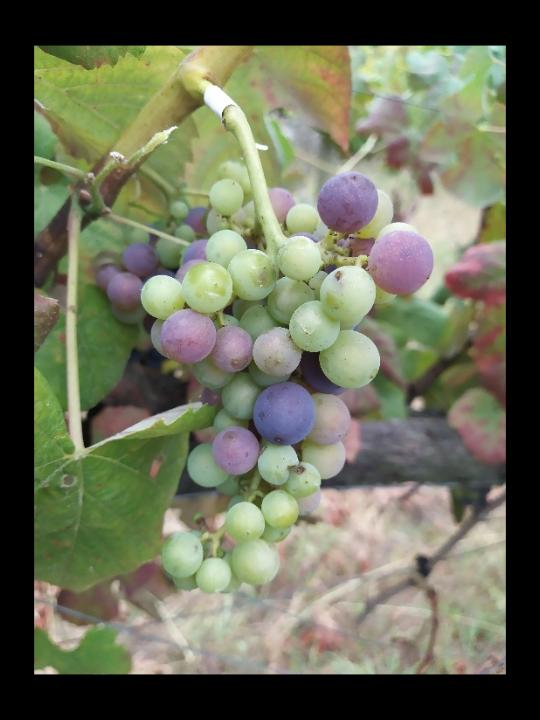grape: (137, 170, 437, 598)
